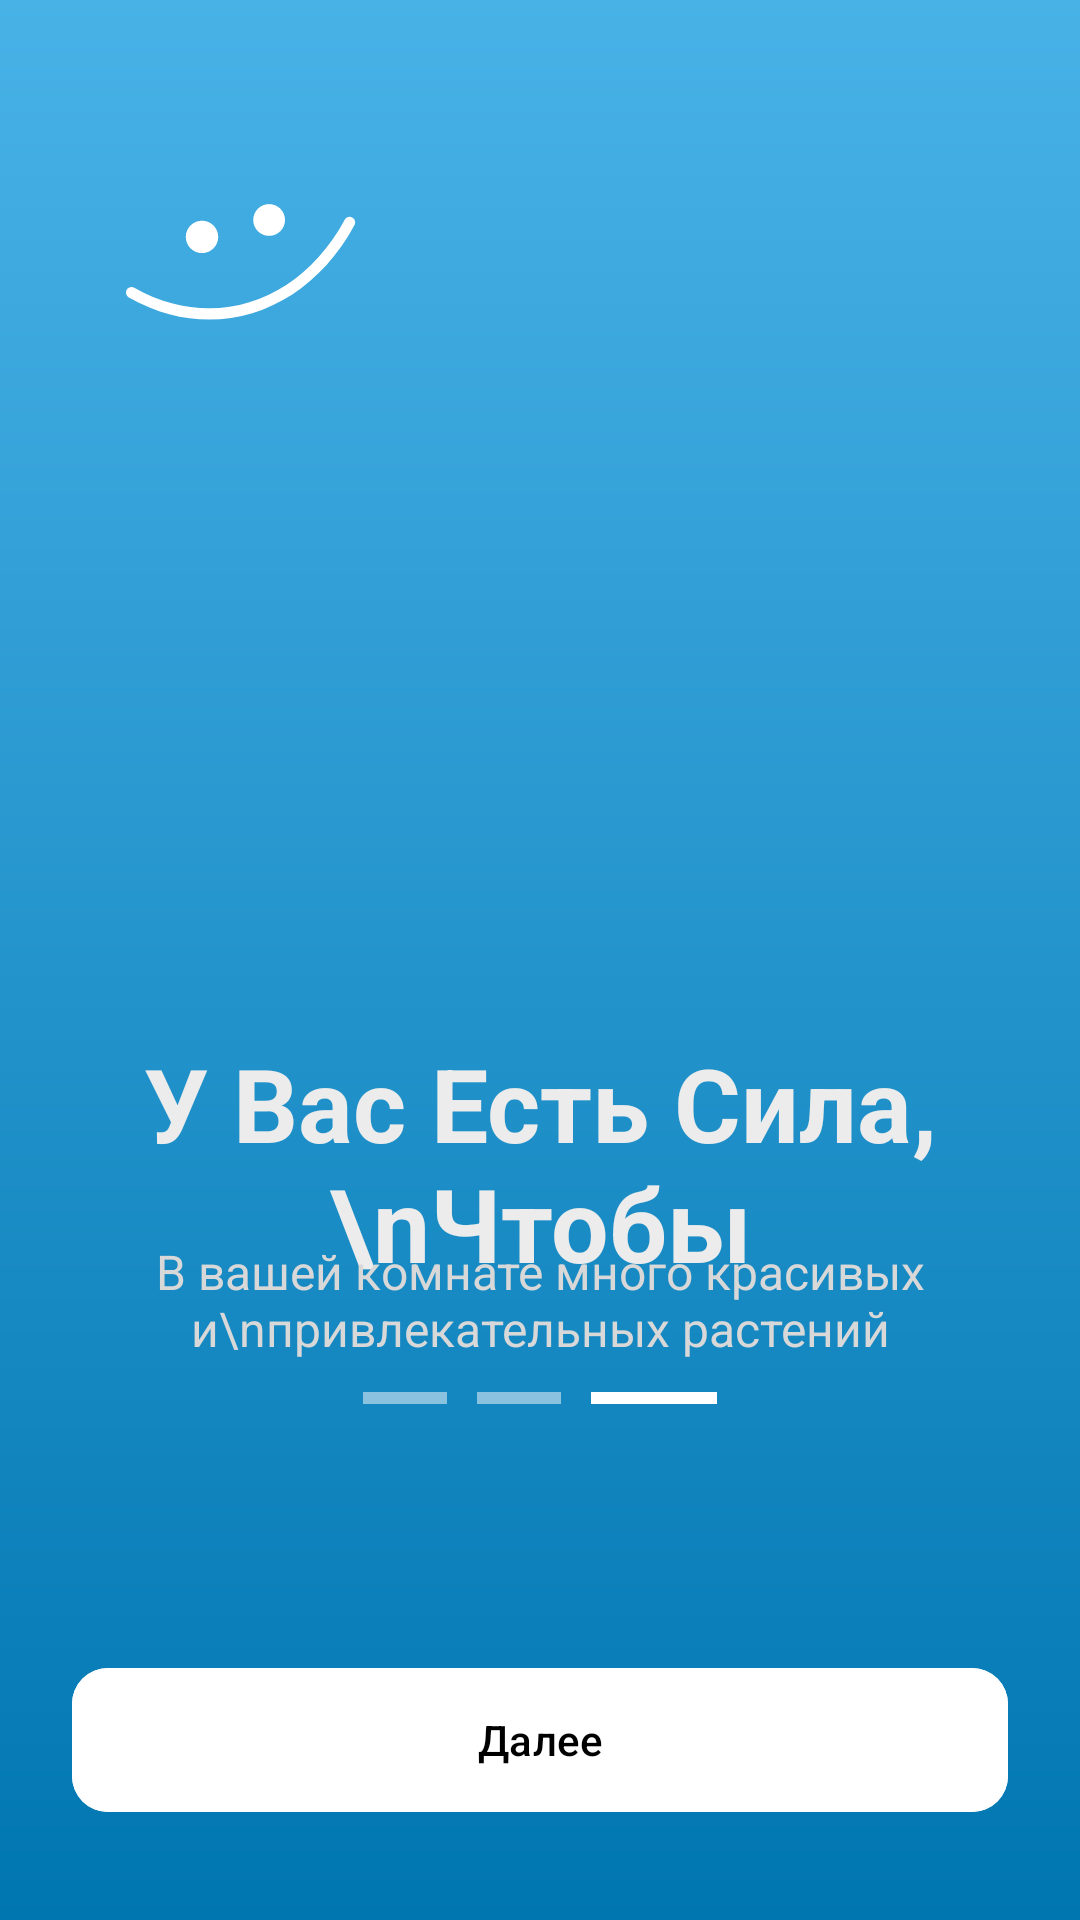

Point at icon controls on the screen. Image size 1080 x 1920, points as point (x, y).
smile: point (240, 262)
